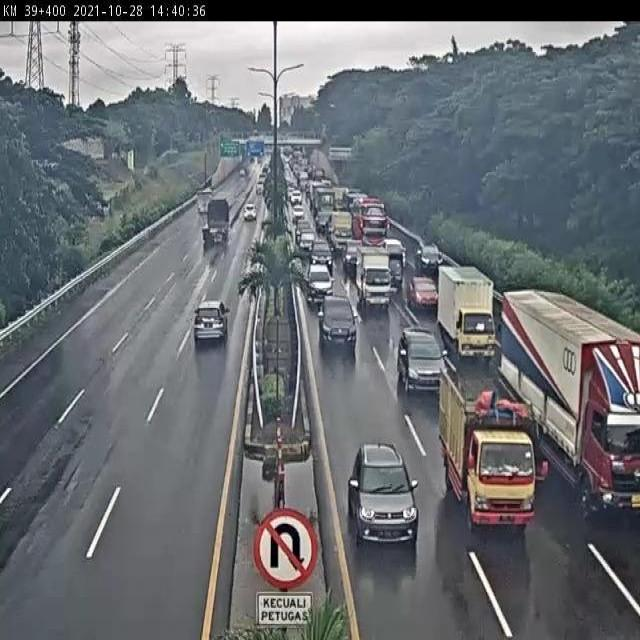big truck: (199, 201, 231, 255)
car: (347, 444, 418, 543), (396, 326, 447, 394), (319, 296, 358, 349), (191, 298, 234, 346), (405, 274, 439, 310), (307, 264, 335, 303), (382, 247, 408, 288)
truck-l-: (502, 288, 640, 517)
truck-m-: (440, 371, 530, 521), (437, 262, 496, 362)
truck-s-: (355, 244, 392, 309)
